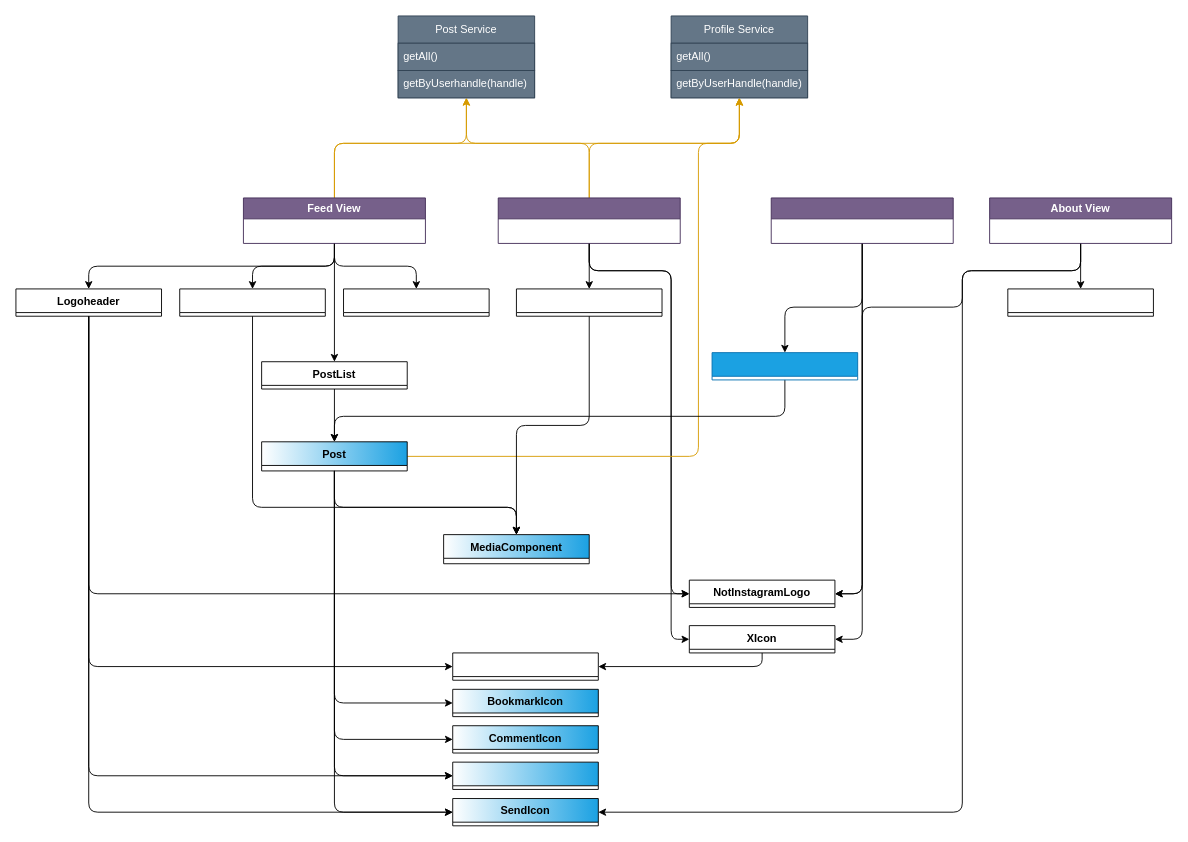
Some shapes in this 1188 by 842 pixel diagram are drawn without their labels. The centre of each missing label's shape, as x and y in pixels:
"Create View" belongs at [861,220].
"CreateForm" belongs at [784,366].
"HeartIcon" belongs at [525,775].
"InfoBlock" belongs at [1080,302].
"InfoIcon" belongs at [416,302].
"PlusIcon" belongs at [525,666].
"Profile" belongs at [589,302].
"Profile View" belongs at [588,220].
"ProfileList" belongs at [252,302].
